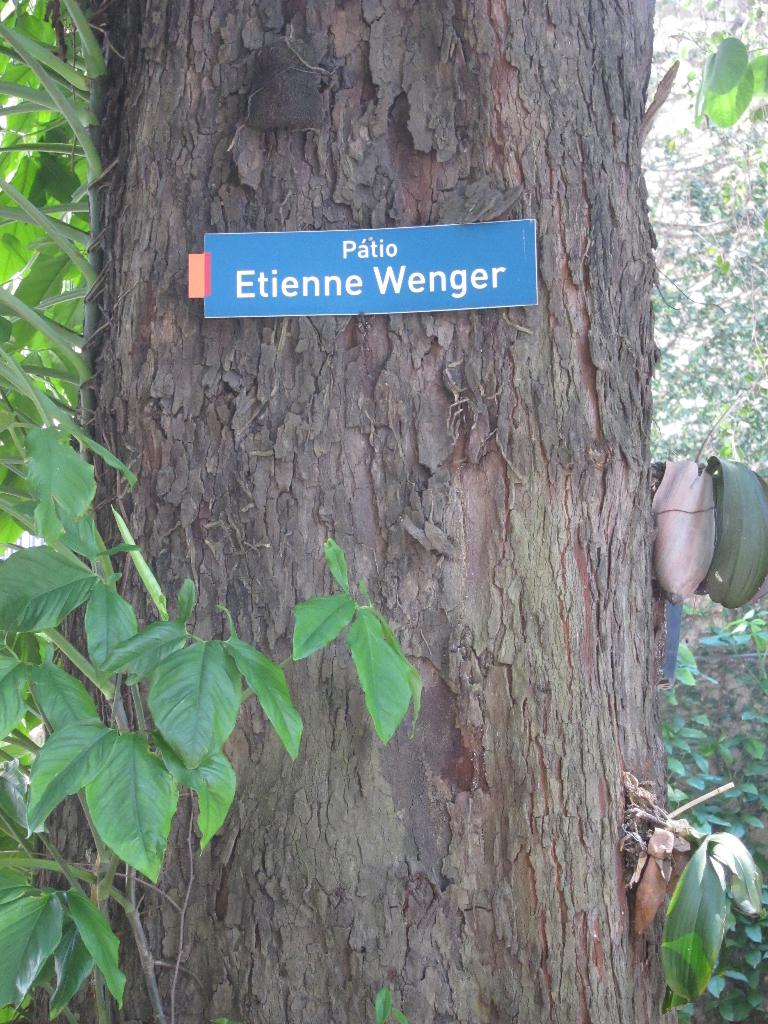Tree: (0, 72, 761, 912)
